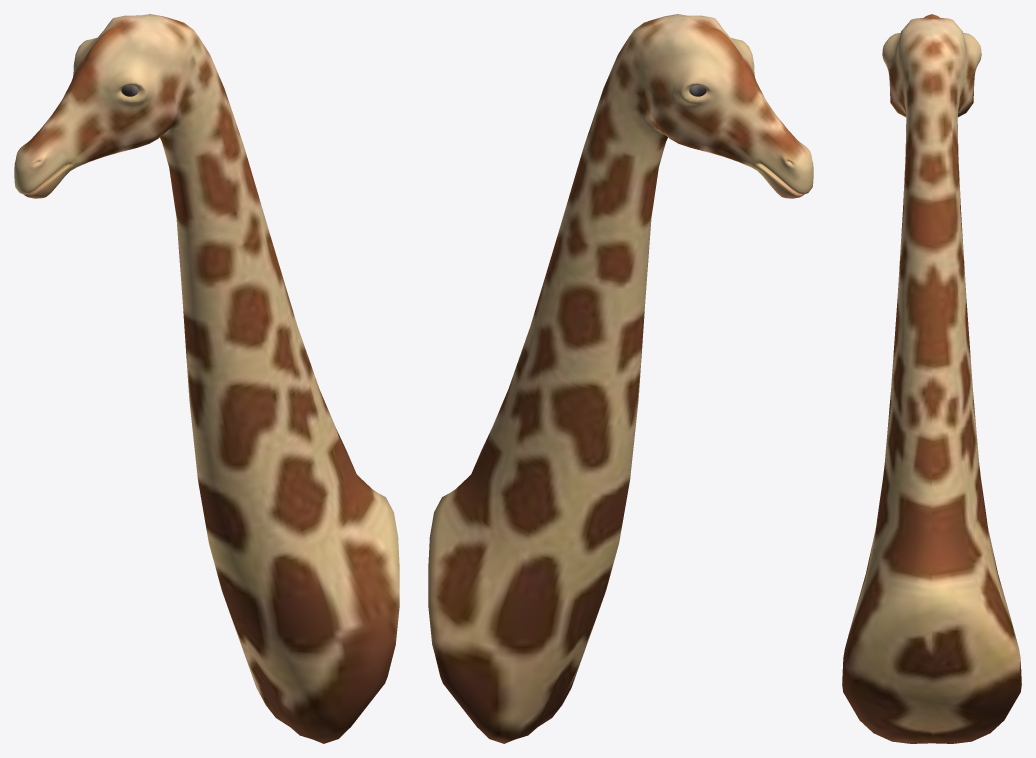
The model's file is Giraffe_Head_0.FBX.
The picture shows the model from 3 angles, left to right: view 1: azimuth 30°, elevation 25°; view 2: azimuth 150°, elevation 25°; view 3: azimuth 270°, elevation 25°; orthographic projection. The views are drawn at different scales.
Parts seen in each view (by area): view 1: Giraffe_Head_0; view 2: Giraffe_Head_0; view 3: Giraffe_Head_0.
Part boxes in pixels (x1,y1,x2,y2): Giraffe_Head_0: (14,14,399,743); Giraffe_Head_0: (428,14,813,743); Giraffe_Head_0: (842,14,1021,743).
Bounding box in the file's own units: 2.03 × 3.91 × 0.9749.
